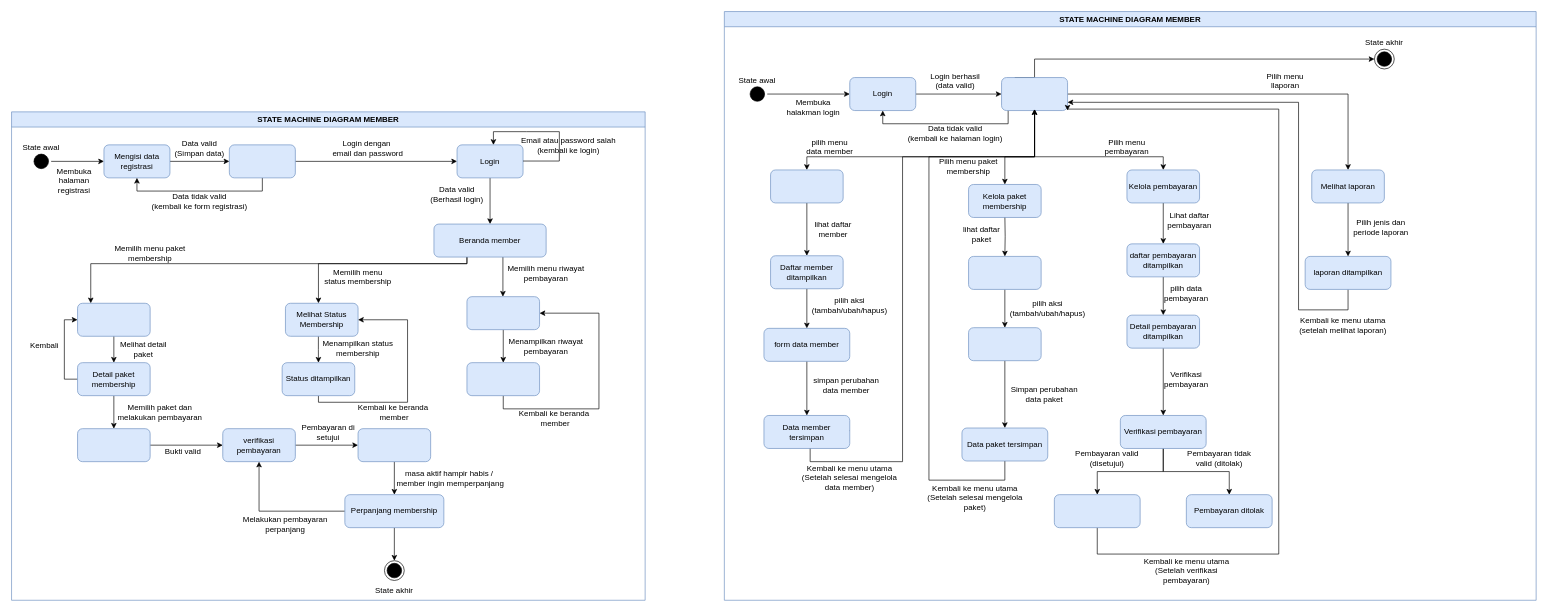
This 1548x612 diagram has some shape labels left out. Each missing label, with the centre of its shape:
Akun terdaftar (Belum login): [262,161]
Beranda admin: [1034,94]
Daftar paket ditampilkan: [1004,272]
Daftar Paket Membership: [113,319]
form data paket: [1004,344]
Kelola data member: [806,186]
Melakukan pembayaran: [113,445]
Melihat riwayat pembayaran: [503,313]
Membership aktif: [394,445]
Pembayaran disetujui: [1097,511]
Riwayat ditampilkan: [503,379]
